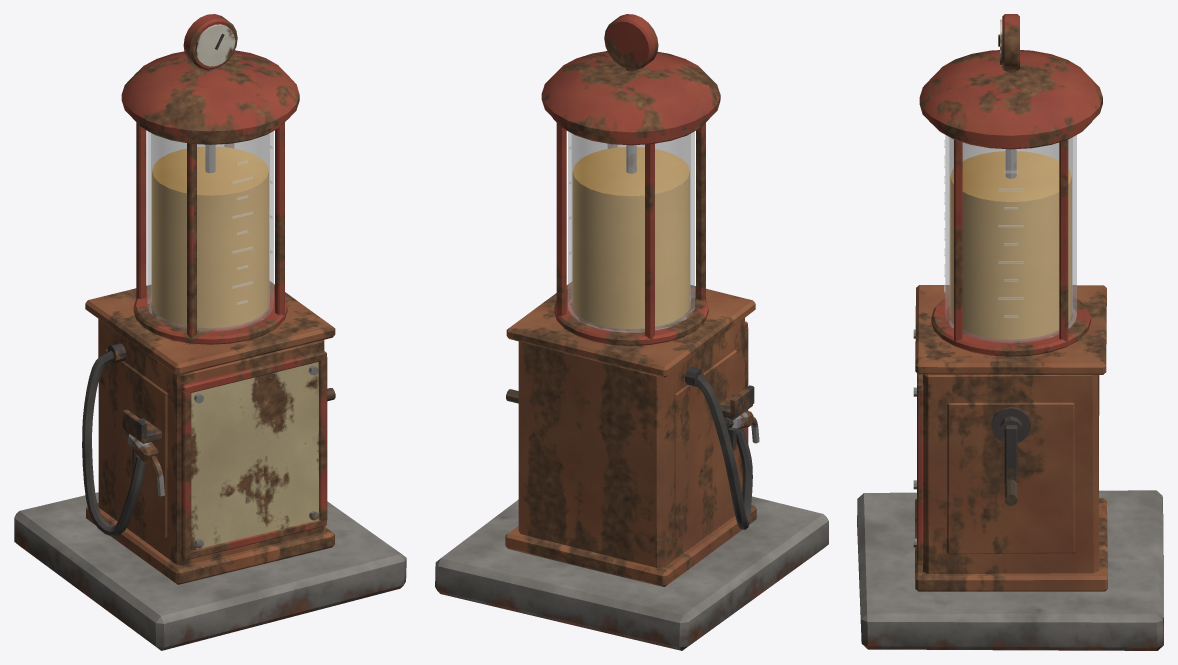
Rendered from GasPump.fbx.
3 views of the same model, side by side, from view 1: azimuth 30°, elevation 25°; view 2: azimuth 150°, elevation 25°; view 3: azimuth 270°, elevation 25° (orthographic). The views are drawn at different scales.
Parts seen in each view (by area): view 1: GasPump, GlassTube, FuelLiquid, Nozzle; view 2: GasPump, GlassTube, FuelLiquid, Nozzle; view 3: GasPump, GlassTube, FuelLiquid, HandCrank.
Part boxes in pixels (left/top/right/bottom): GasPump: left=14, top=14, right=406, bottom=650; GlassTube: left=147, top=131, right=273, bottom=331; FuelLiquid: left=152, top=146, right=268, bottom=328; Nozzle: left=124, top=431, right=164, bottom=496; GasPump: left=435, top=14, right=828, bottom=650; GlassTube: left=568, top=131, right=694, bottom=332; FuelLiquid: left=572, top=147, right=689, bottom=329; Nozzle: left=724, top=410, right=759, bottom=450; GasPump: left=857, top=14, right=1163, bottom=650; GlassTube: left=944, top=135, right=1076, bottom=342; FuelLiquid: left=950, top=151, right=1071, bottom=339; HandCrank: left=1000, top=416, right=1021, bottom=505.
Bounding box in the file's own units: 106 × 222 × 108.
Materials: 2 (1 with a texture image).
